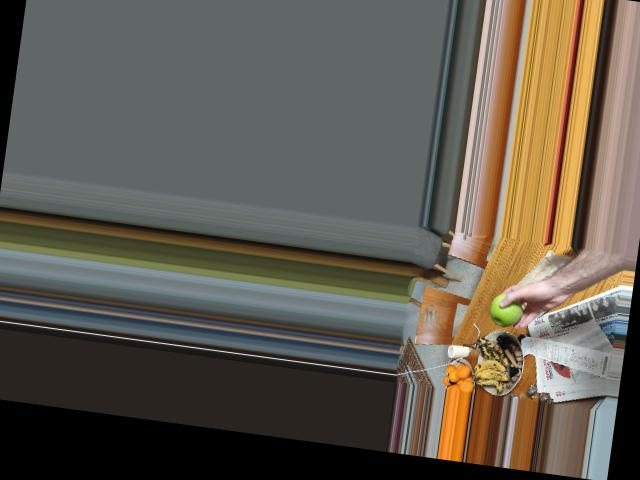apple: (486, 289, 531, 329)
